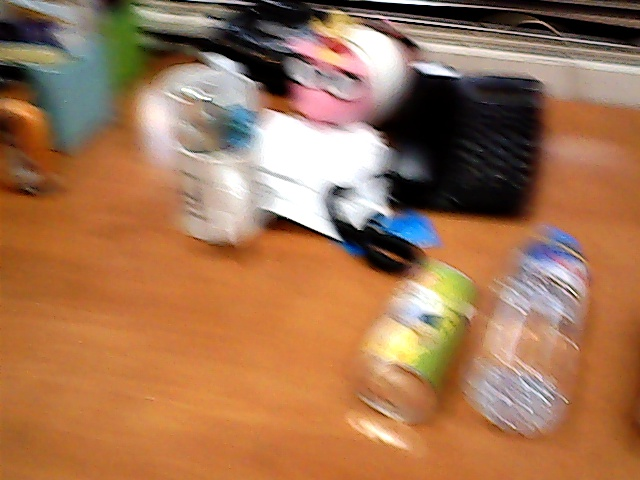Pine Juice: (347, 245, 468, 430)
Summit Water: (467, 210, 589, 445)
